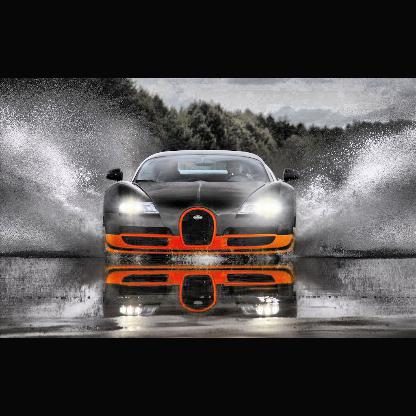Bugatti Veyron 16-4 Coupe 2009: (102, 148, 300, 263)
